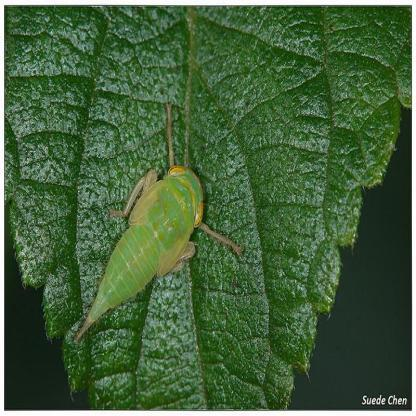green-leafhopper: (78, 162, 207, 340)
